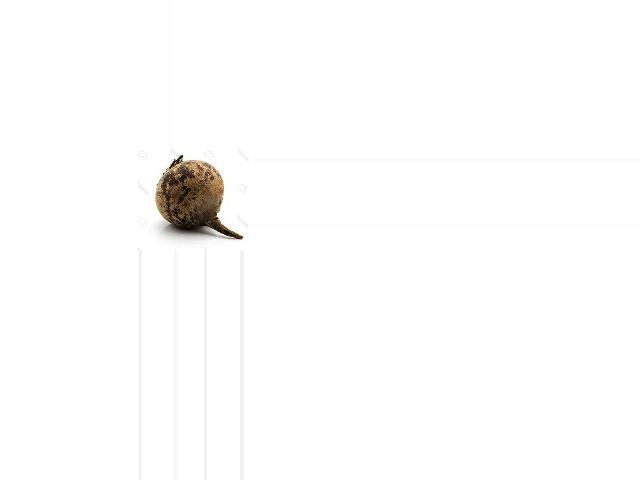beet: (154, 155, 242, 239)
